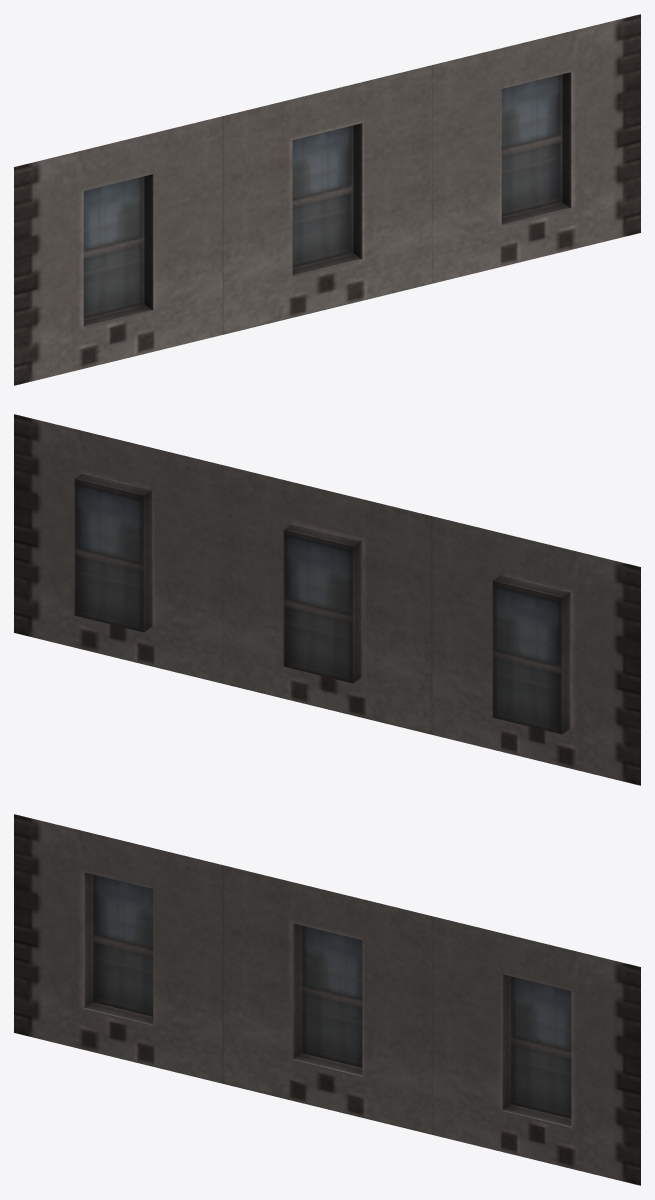
File: B5_MiddleFloorSide.FBX
3 views of the same model, one above another, from view 1: azimuth 30°, elevation 25°; view 2: azimuth 150°, elevation 25°; view 3: azimuth 330°, elevation 25° (orthographic).
Visible parts, largest first — view 1: B5_MiddleFloorSide; view 2: B5_MiddleFloorSide; view 3: B5_MiddleFloorSide.
Part boxes in pixels (x1=…): B5_MiddleFloorSide: x1=14, y1=14, x2=640, y2=385; B5_MiddleFloorSide: x1=14, y1=414, x2=640, y2=785; B5_MiddleFloorSide: x1=14, y1=814, x2=640, y2=1185.
Size of the model in its own units: 12 by 4 by 0.3033.
